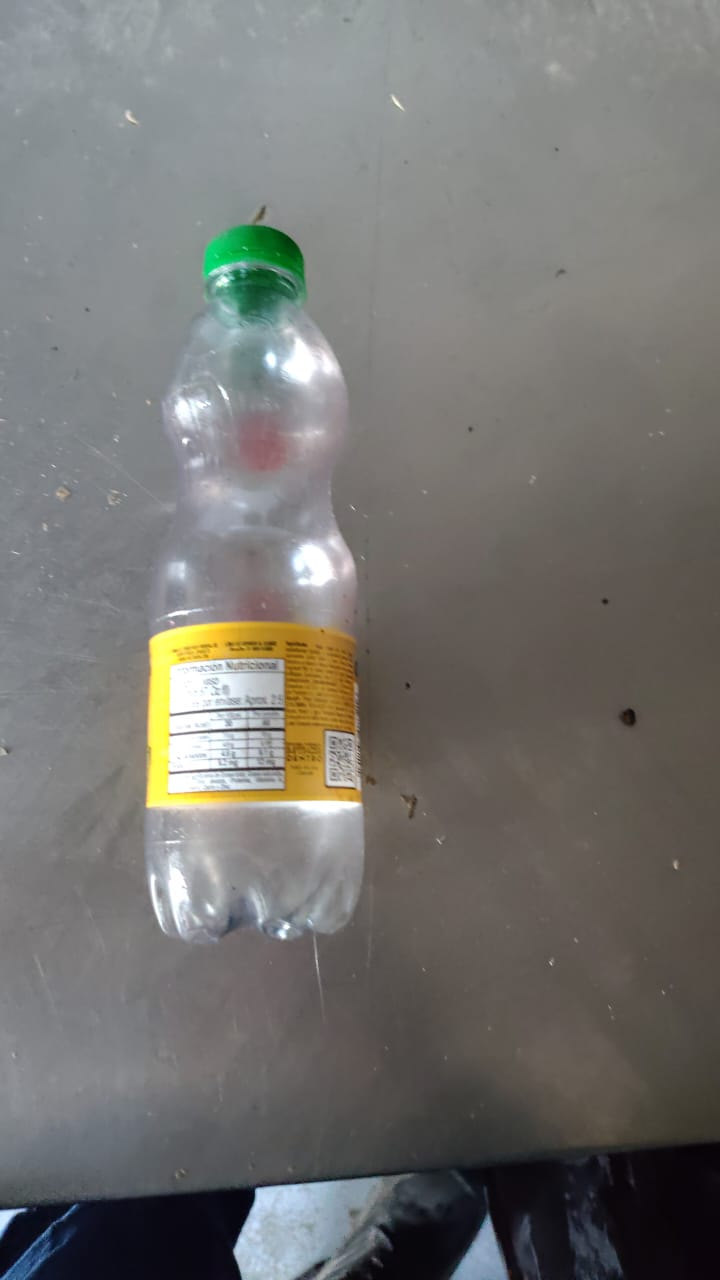Plastico: (146, 227, 366, 943)
